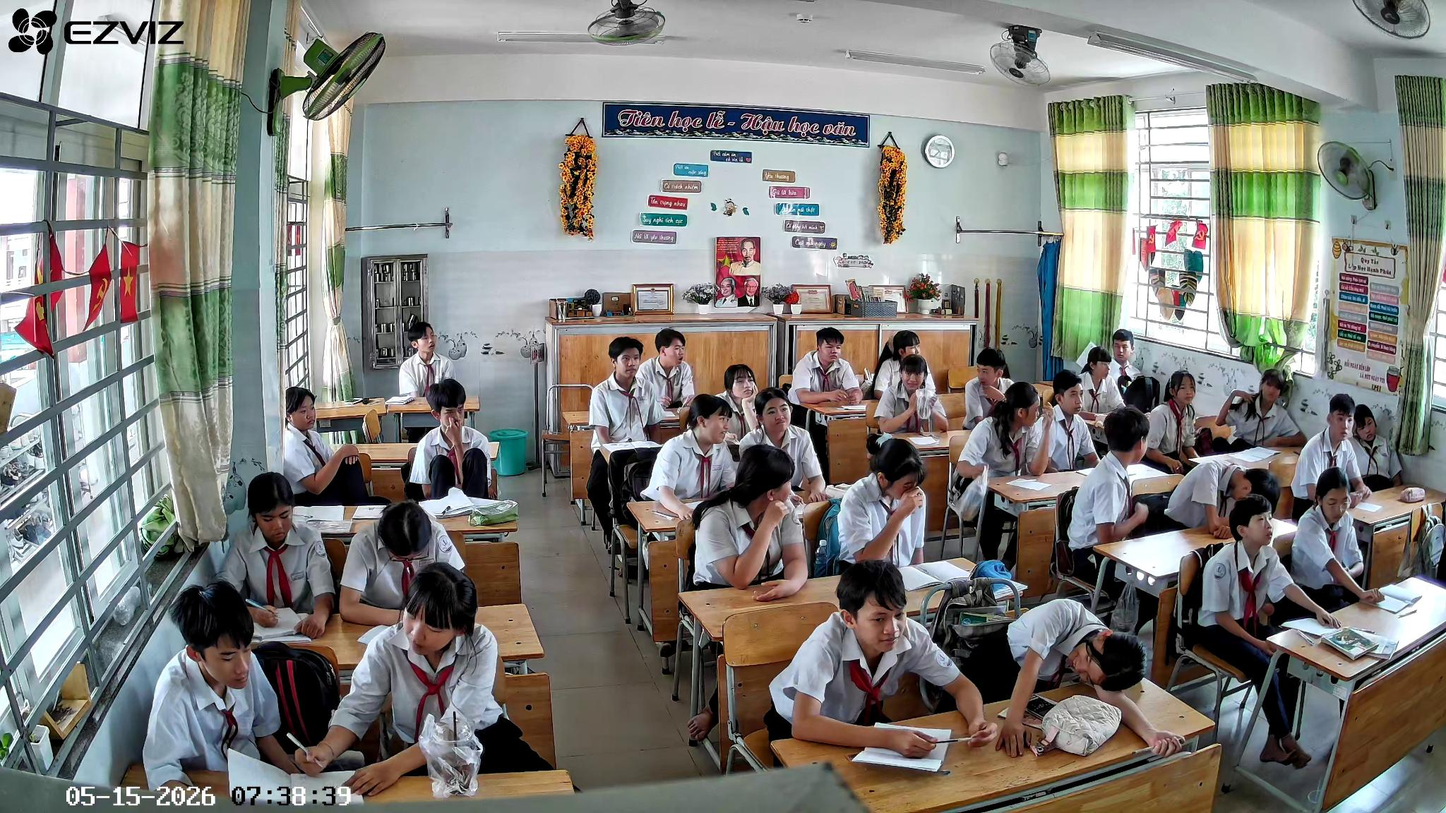person: (297, 559, 531, 792), (767, 556, 997, 771), (973, 576, 1195, 765), (134, 576, 297, 791), (204, 465, 336, 643), (685, 444, 820, 603), (341, 492, 464, 622), (1291, 464, 1398, 605), (833, 430, 939, 565), (1204, 487, 1287, 654), (1061, 403, 1154, 537), (644, 391, 743, 516), (407, 375, 498, 499), (282, 385, 375, 505), (953, 378, 1058, 479), (740, 387, 831, 501), (1165, 453, 1285, 537), (1292, 390, 1370, 504), (587, 335, 661, 443), (1213, 367, 1306, 448), (1033, 369, 1102, 464), (787, 326, 865, 407), (875, 355, 950, 433), (1144, 371, 1208, 459), (393, 319, 465, 395), (1352, 403, 1405, 488), (874, 328, 941, 395), (640, 327, 697, 405), (961, 346, 1015, 427), (1070, 345, 1124, 415), (714, 362, 762, 440), (1098, 327, 1152, 396)
